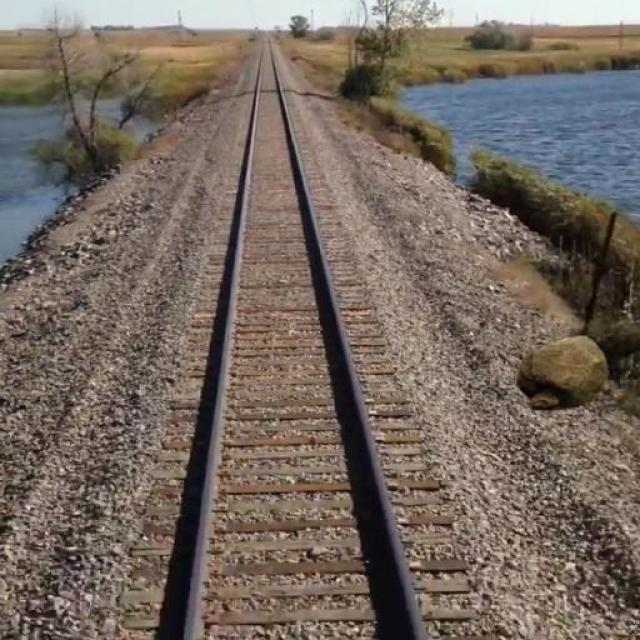Stone: (515, 331, 614, 414)
